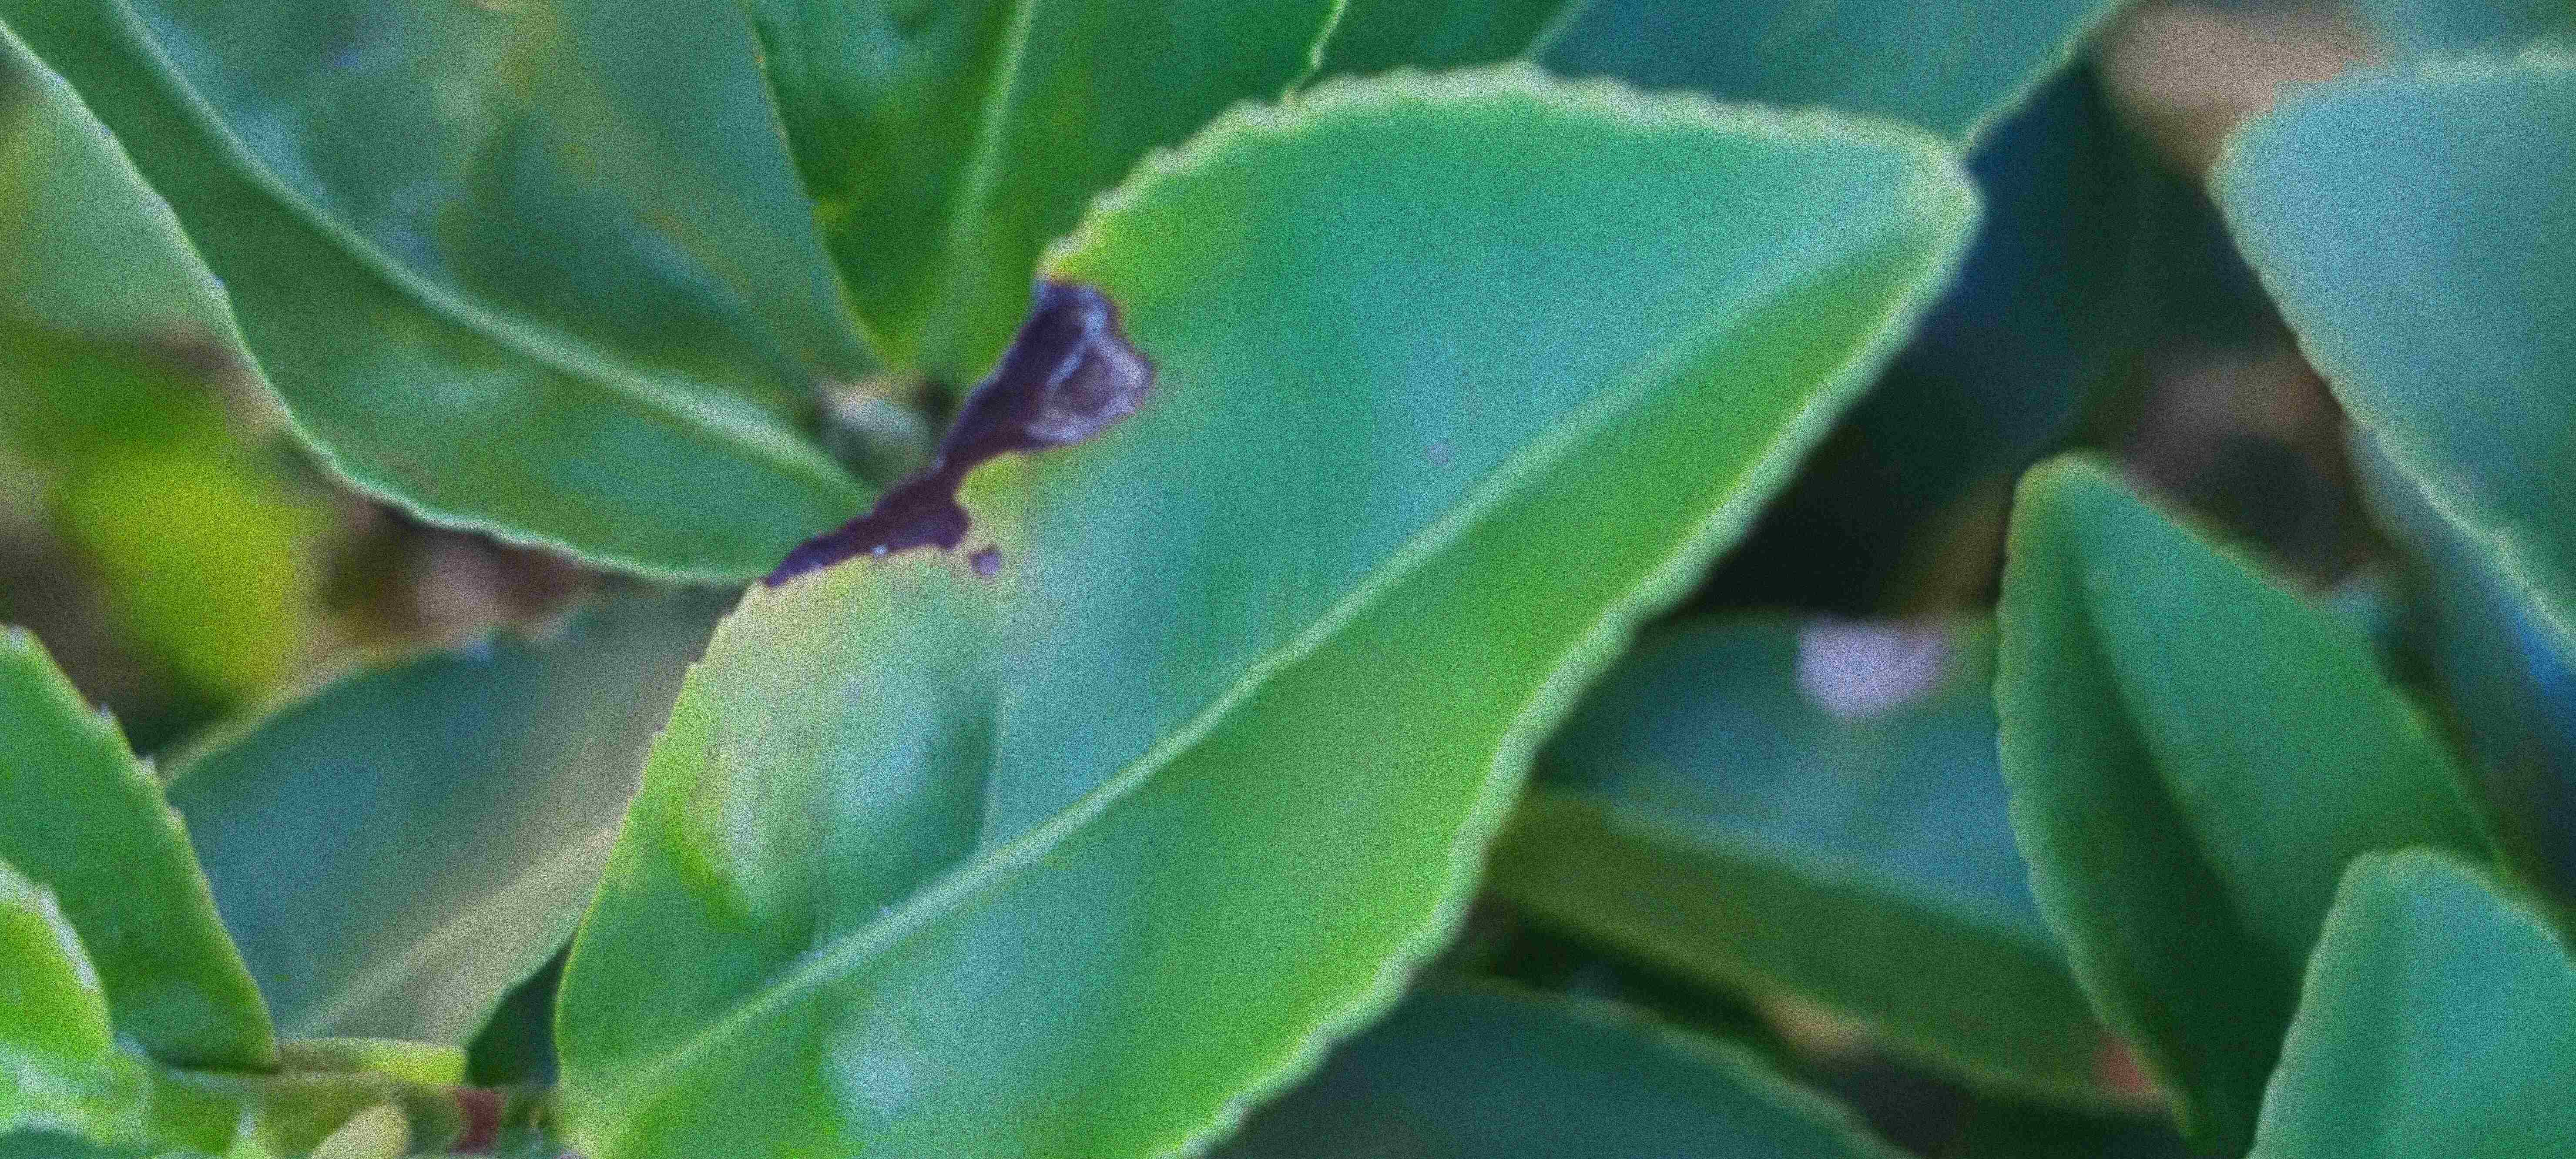healthy: (1988, 470, 2518, 1154), (2196, 49, 2576, 635), (2231, 845, 2574, 1157)
tanju_high: (550, 69, 1978, 1151)
